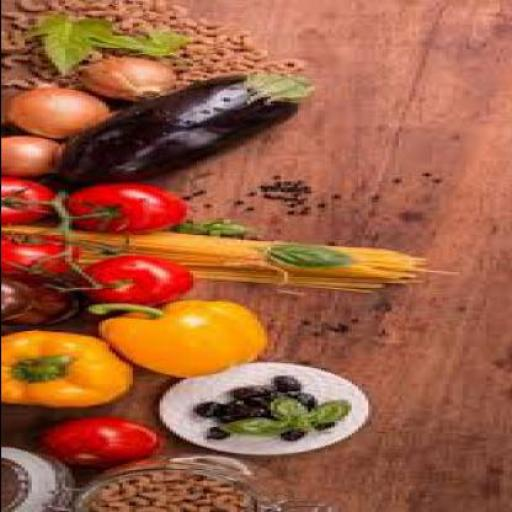biodegradable: (3, 221, 465, 290), (53, 70, 317, 181), (94, 297, 273, 376), (3, 328, 139, 407), (37, 416, 165, 464), (98, 471, 249, 511), (68, 183, 188, 232), (84, 254, 195, 305), (30, 11, 118, 73), (7, 85, 111, 137), (226, 395, 356, 435), (179, 51, 310, 83), (81, 56, 179, 98), (3, 232, 81, 275), (189, 23, 263, 62), (4, 133, 70, 176), (4, 175, 60, 223), (104, 28, 196, 57), (118, 0, 196, 28), (272, 243, 354, 268), (3, 10, 38, 64), (178, 218, 252, 236), (30, 0, 121, 11), (253, 190, 317, 204), (230, 399, 276, 418), (260, 179, 316, 194), (286, 390, 323, 409), (236, 384, 276, 399), (283, 426, 310, 442), (283, 374, 310, 390), (212, 425, 232, 444), (205, 401, 229, 416), (186, 190, 212, 203), (333, 320, 357, 332), (306, 419, 340, 427), (290, 206, 313, 216), (266, 172, 290, 179), (209, 202, 219, 208)
glass: (70, 453, 297, 511), (3, 446, 81, 510), (4, 274, 91, 323)
